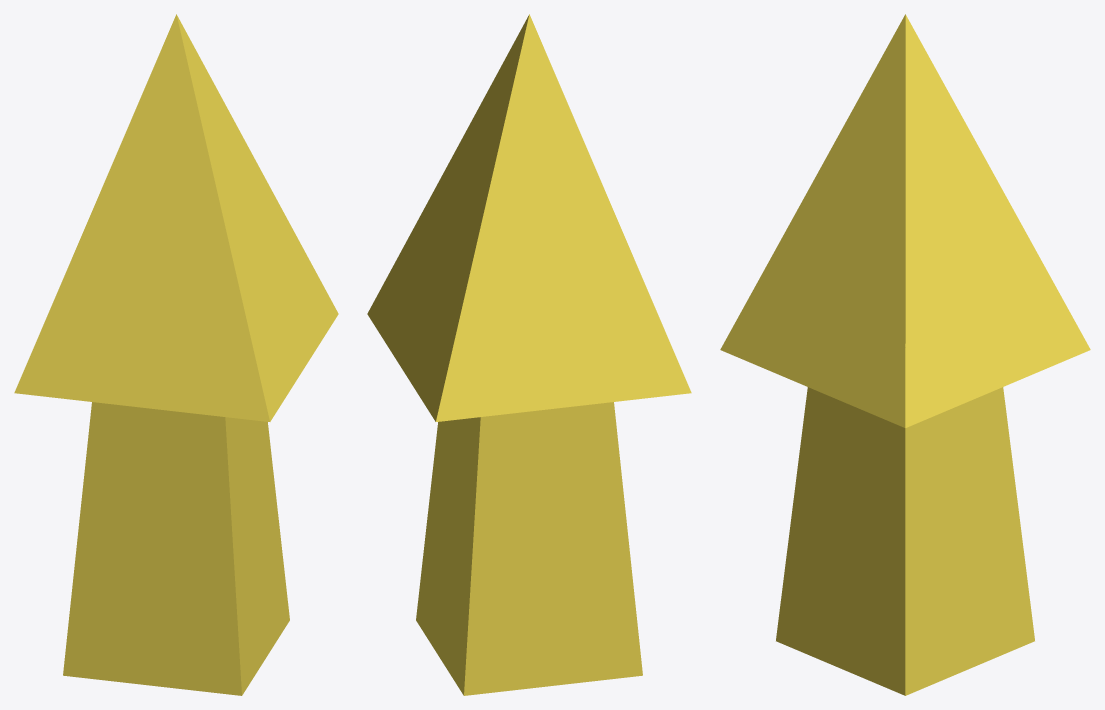
File: GPS arrow 1.fbx
The picture shows the model from 3 angles, left to right: view 1: azimuth 30°, elevation 25°; view 2: azimuth 150°, elevation 25°; view 3: azimuth 270°, elevation 25°; orthographic projection.
Parts seen in each view (by area): view 1: Cone; view 2: Cone; view 3: Cone.
Boxes of the visible parts, left/top/right/bottom form: Cone: left=14, top=14, right=338, bottom=695; Cone: left=367, top=14, right=691, bottom=695; Cone: left=720, top=14, right=1090, bottom=695.
Bounding box in the file's own units: 200 × 373 × 200.
